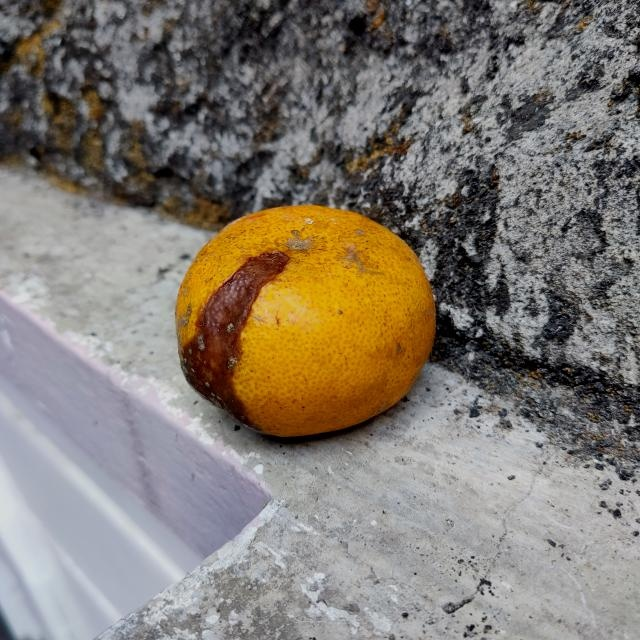agrume: (171, 204, 436, 440)
